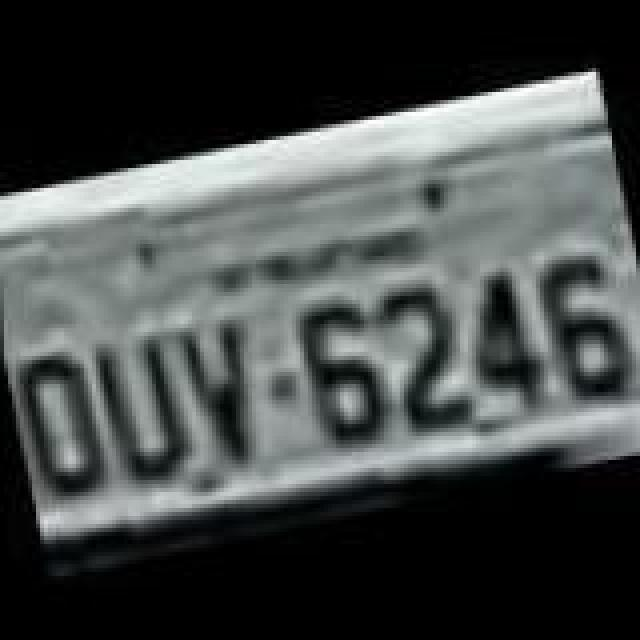2: (370, 268, 482, 428)
4: (452, 254, 556, 422)
6: (528, 236, 640, 408), (286, 290, 390, 446)
O: (8, 348, 112, 504)
U: (82, 326, 194, 486)
V: (168, 306, 268, 470)
